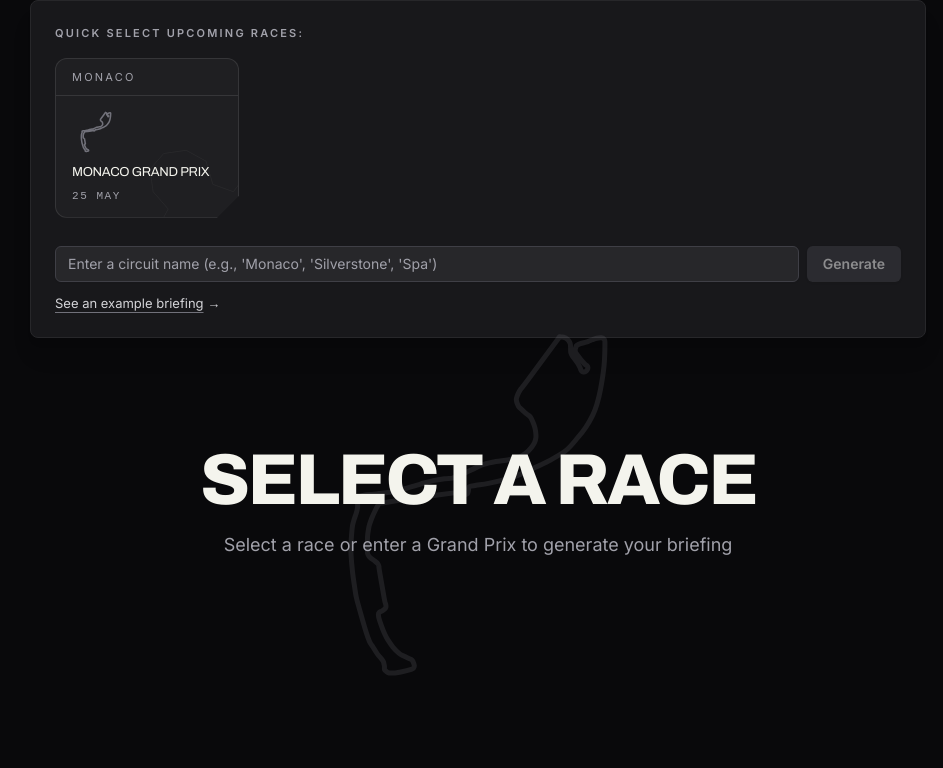
Scenario: BriefingChat wiring › feeds the hook state into the loader: startedAt, the active stage and a tool label
In the field labelled "circuit name": [427, 264] box [55,246,799,282], type "Monaco"
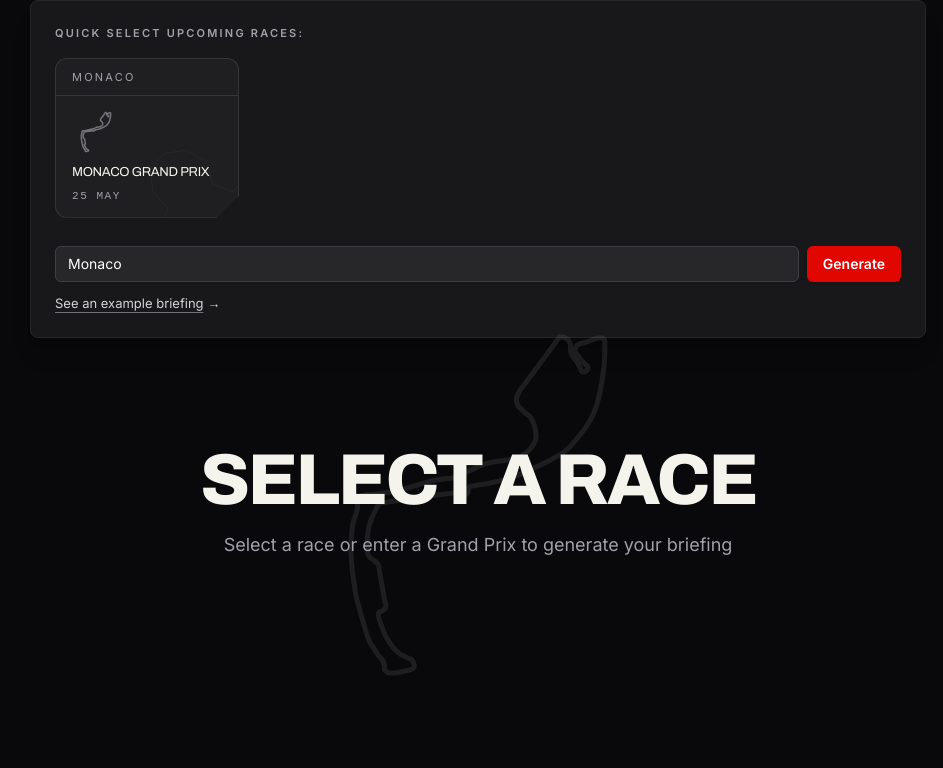
Click the button "Generate": [854, 264] box [807,246,901,282]
Wait 3000 ms
(page scrolled)
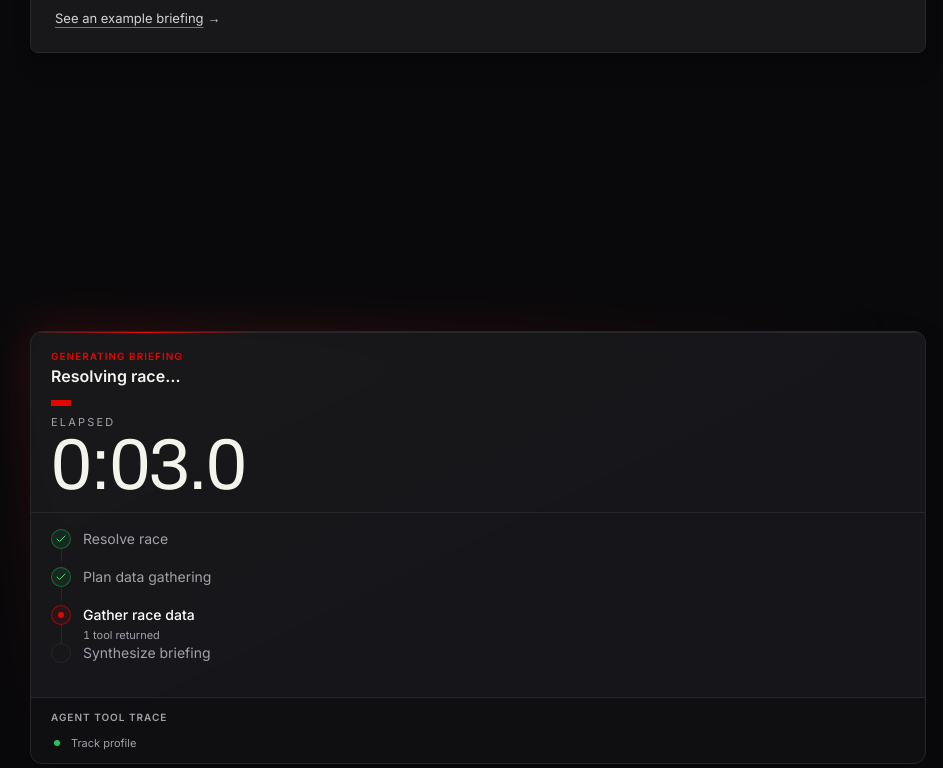
Now the text "0:03.0" is shown, box [51,435,245,496]
Now the text "Track profile" is shown, box [71,735,136,751]
